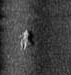man: (17, 28, 36, 51)
